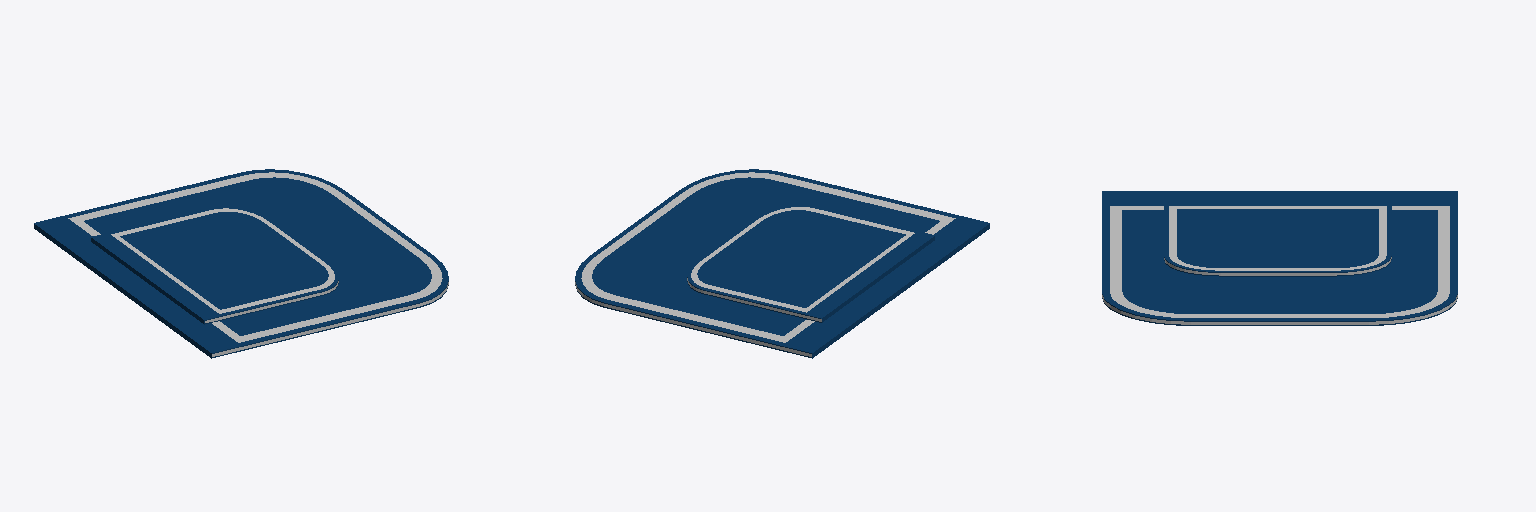
The model's file is floorStudio2.obj.
The picture shows the model from 3 angles: view 1: azimuth 30°, elevation 25°; view 2: azimuth 150°, elevation 25°; view 3: azimuth 270°, elevation 25°; orthographic projection.
Parts seen in each view (by area): view 1: Plane.004; view 2: Plane.004; view 3: Plane.004.
Part boxes in pixels (x1,y1,x2,y2): Plane.004: (34, 169, 448, 358); Plane.004: (575, 169, 989, 358); Plane.004: (1102, 191, 1457, 325).
Size of the model in its own units: 84.87 by 2.97 by 98.02.